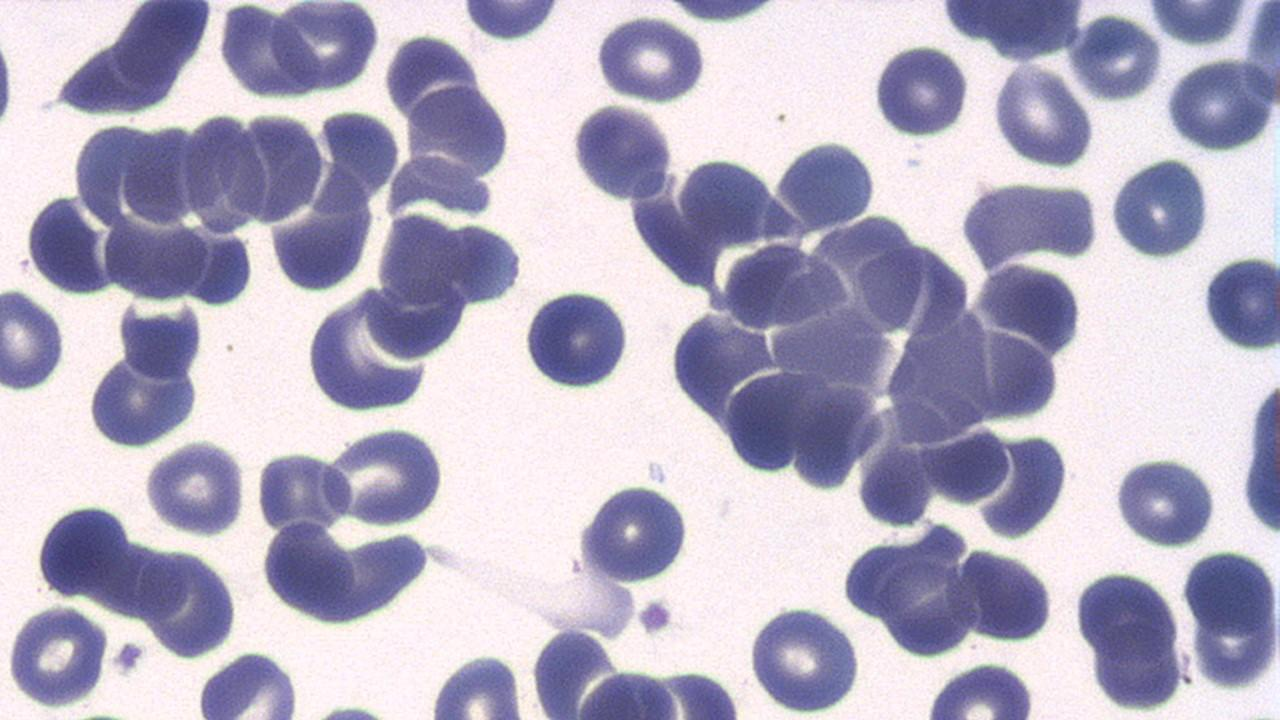Platelets: (1108, 452, 1218, 550), (593, 15, 710, 104), (868, 42, 972, 141), (1199, 255, 1279, 354), (0, 284, 68, 392), (0, 29, 17, 136), (636, 598, 674, 638), (316, 701, 393, 719), (111, 638, 146, 676)
RBC: (325, 422, 450, 528), (746, 602, 864, 714), (576, 478, 691, 588), (1, 600, 113, 710), (989, 60, 1095, 169), (1108, 154, 1214, 262), (1165, 54, 1277, 154), (402, 81, 514, 180), (181, 110, 268, 236), (143, 436, 248, 540), (952, 543, 1056, 647), (773, 133, 881, 233), (594, 12, 707, 106), (1108, 453, 1218, 549), (236, 107, 324, 226), (268, 2, 382, 93), (870, 41, 970, 141), (216, 1, 312, 103), (1179, 548, 1279, 636), (1068, 11, 1164, 102), (254, 447, 348, 536), (1200, 252, 1280, 356), (0, 284, 66, 394), (425, 650, 531, 716), (920, 658, 1040, 716), (856, 246, 928, 330)
WBC: (432, 0, 1279, 720), (0, 0, 640, 720), (730, 0, 1274, 315), (648, 246, 920, 490), (42, 1, 220, 119), (302, 279, 448, 418), (1067, 562, 1189, 714), (392, 73, 524, 184), (83, 336, 205, 454), (574, 478, 694, 586), (521, 286, 635, 394), (1106, 154, 1216, 263), (2, 600, 110, 711), (566, 100, 676, 204), (1106, 450, 1220, 550), (23, 190, 121, 301), (268, 2, 384, 94), (773, 134, 879, 234), (933, 0, 1095, 65), (554, 667, 746, 718), (1182, 546, 1278, 638), (1239, 355, 1280, 554), (192, 648, 306, 718), (458, 1, 568, 41)
